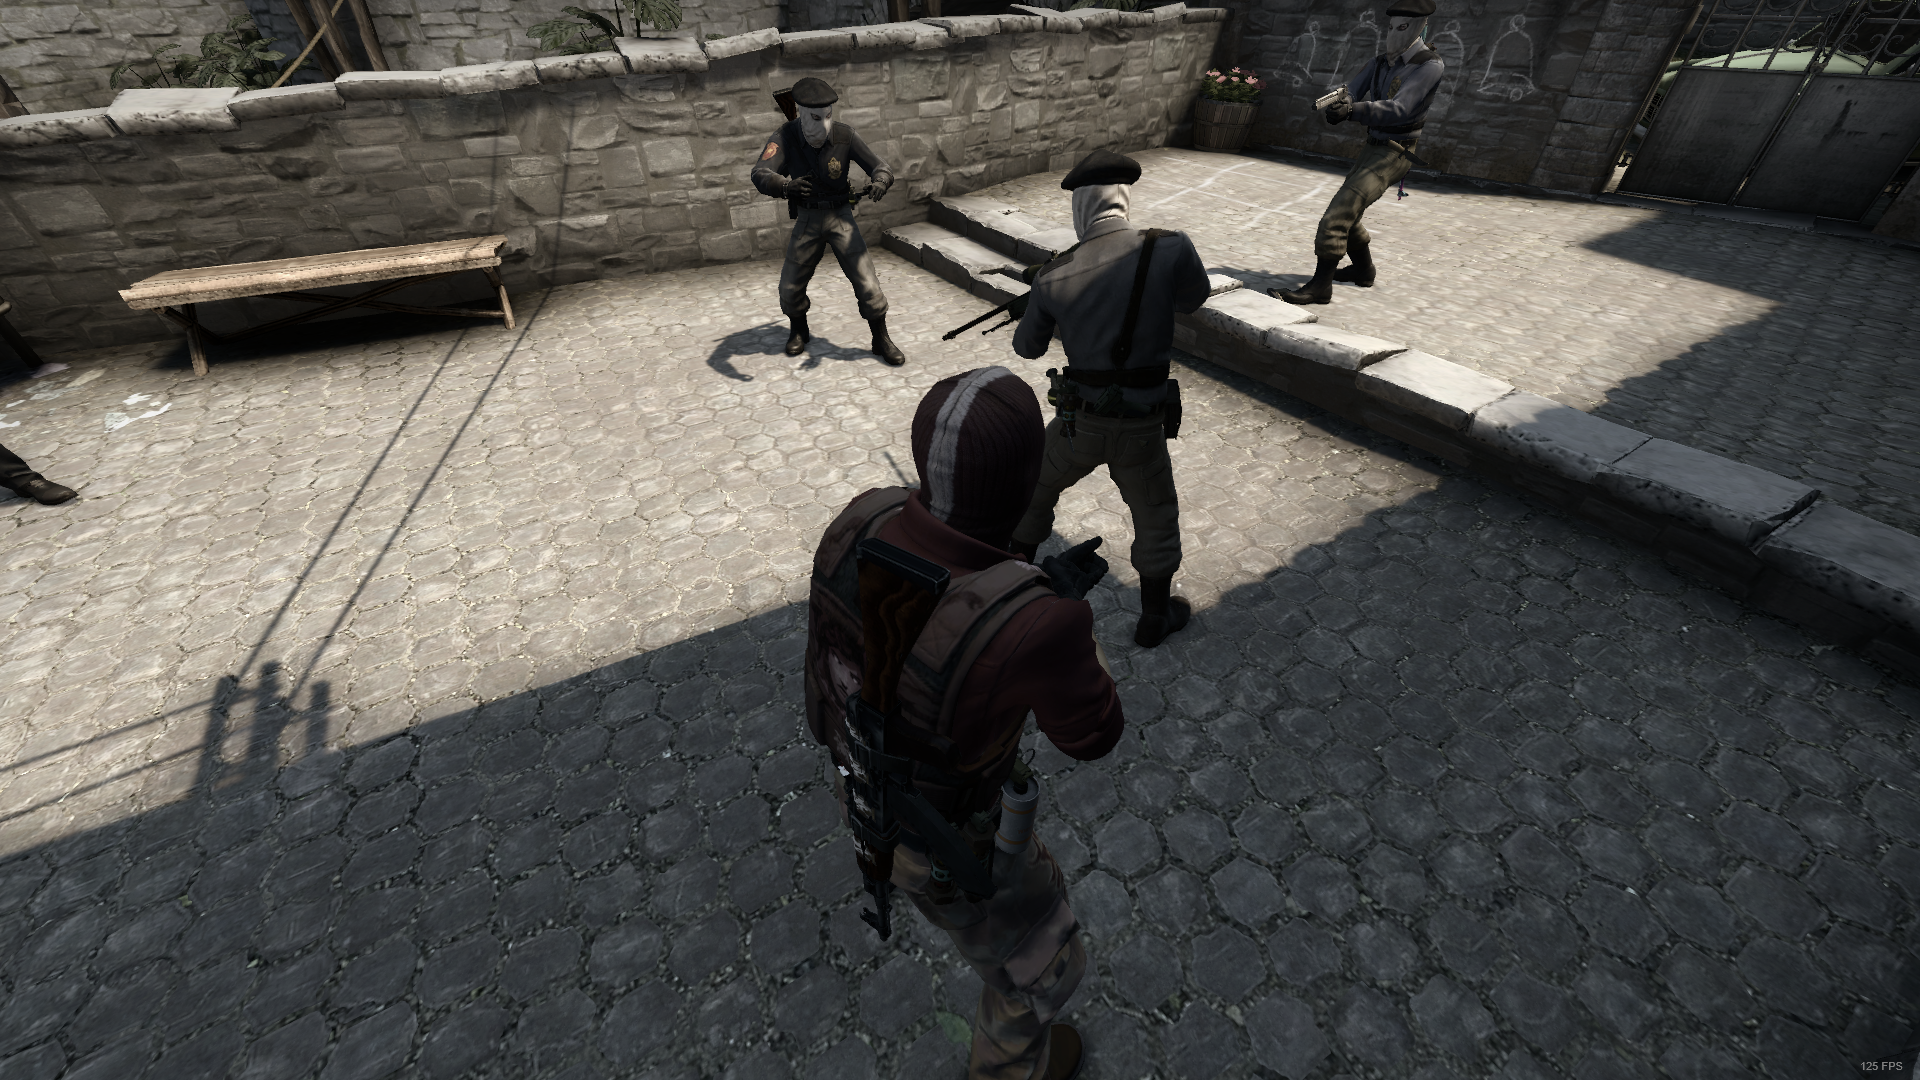t: (1011, 145, 1208, 644), (740, 66, 916, 382), (1283, 1, 1447, 326)
